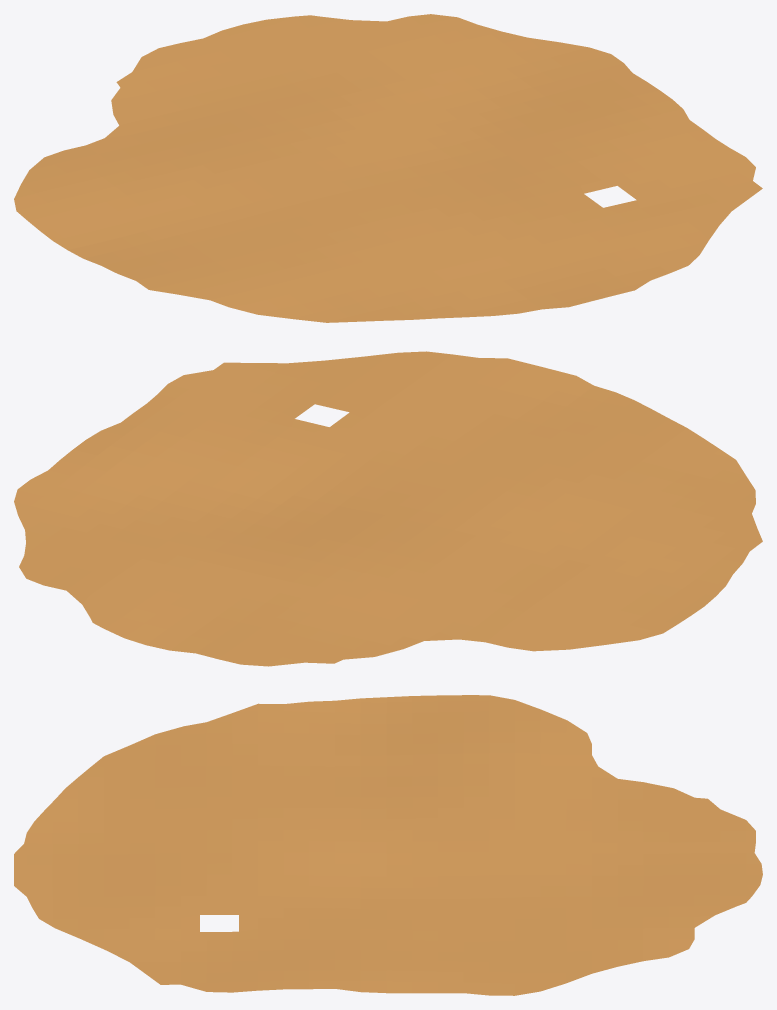
File: desert_floor.glb
3 renders of one model, top to bottom at view 1: azimuth 30°, elevation 25°; view 2: azimuth 150°, elevation 25°; view 3: azimuth 270°, elevation 25°, orthographic. The views are drawn at different scales.
Visible parts, largest first — view 1: Desert_Floor; view 2: Desert_Floor; view 3: Desert_Floor.
Boxes of the visible parts, <box> form: Desert_Floor: <box>14,14,762,322</box>; Desert_Floor: <box>14,351,762,666</box>; Desert_Floor: <box>14,695,762,995</box>.
Bounding box in the file's own units: 173 × 1.32 × 182.
